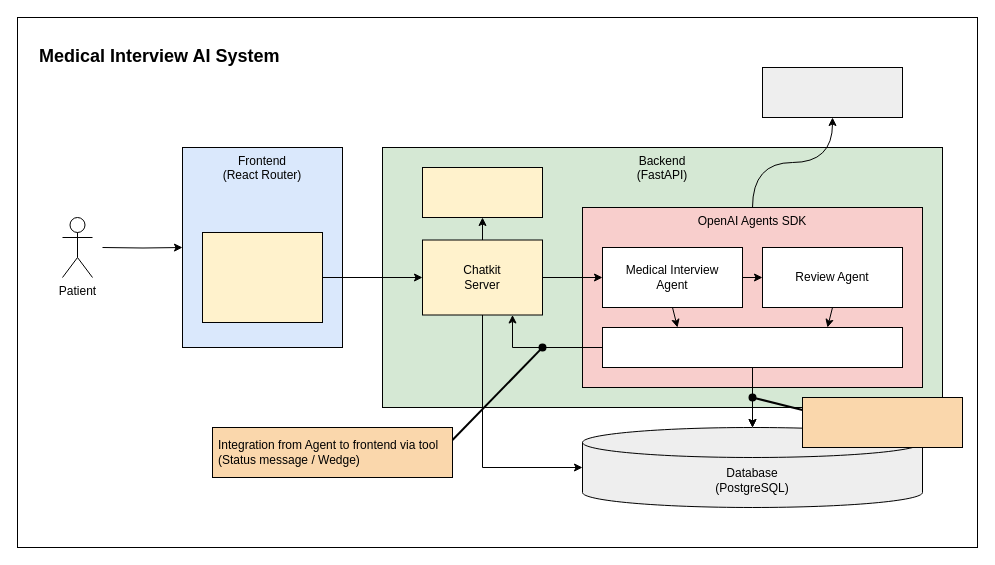
Some shapes in this 995 by 565 pixel diagram are drawn without their labels. Each missing label, with the centre of its shape:
"Braintrust" goes at (x=832, y=92).
"Chat Data Store (In-memory)" goes at (x=482, y=192).
"Chatkit react-component" goes at (x=262, y=277).
"Custom Function Tools" goes at (x=752, y=347).
"Transmit the JSON schema to the Agent via the tool" goes at (x=882, y=422).
